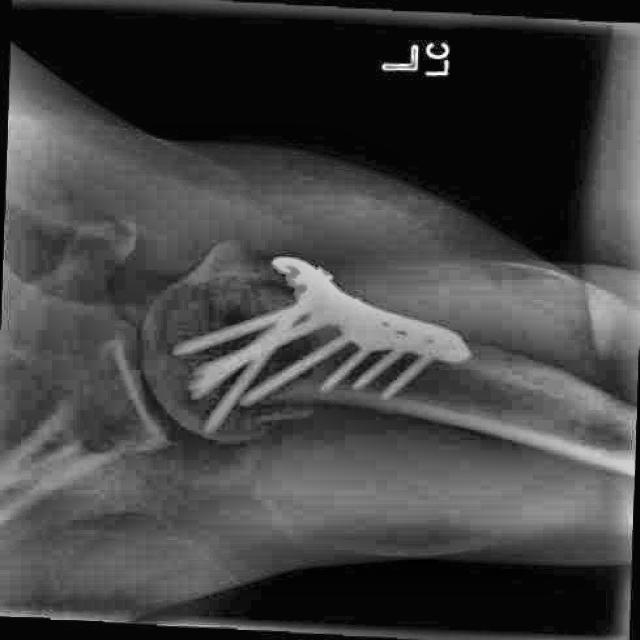shoulder fracture: (214, 358, 355, 457)
